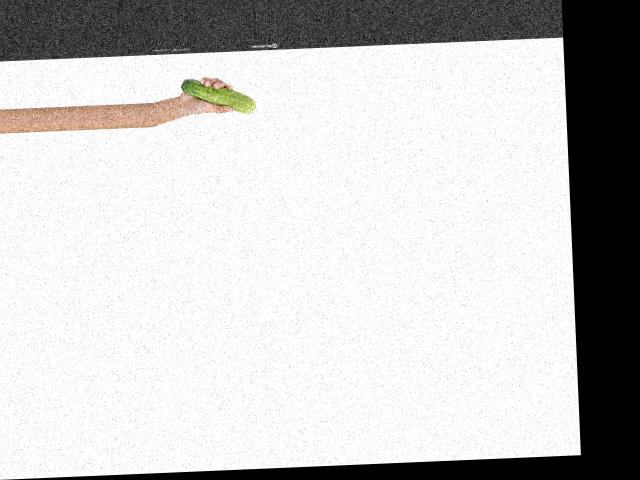cucumber: (180, 76, 255, 116)
